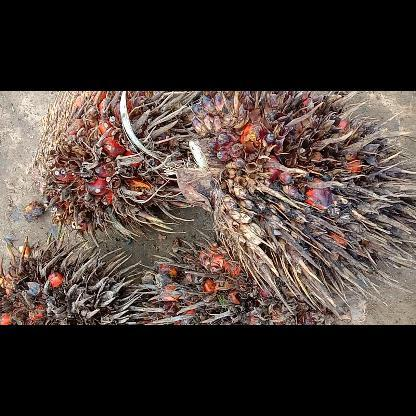Terlalu masak: (171, 91, 415, 319), (33, 90, 221, 250), (131, 228, 373, 324), (0, 232, 144, 324)
